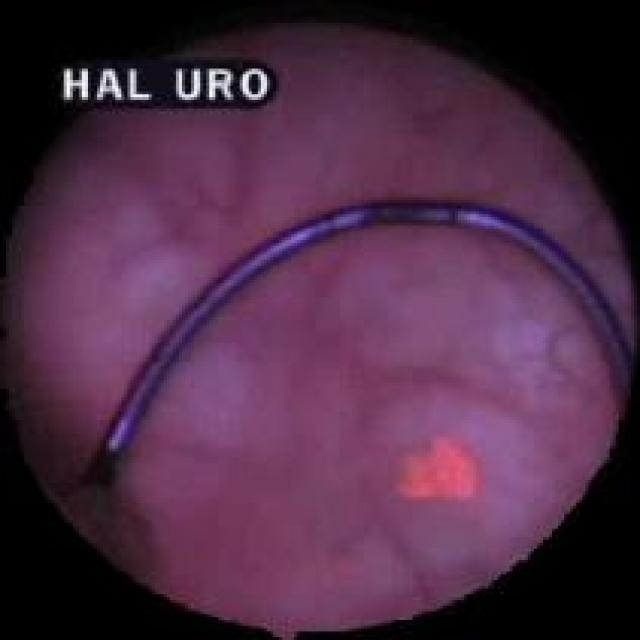color misalignment: (54, 53, 282, 114)
contrast: (10, 399, 148, 590)
instrument: (87, 201, 634, 572)
